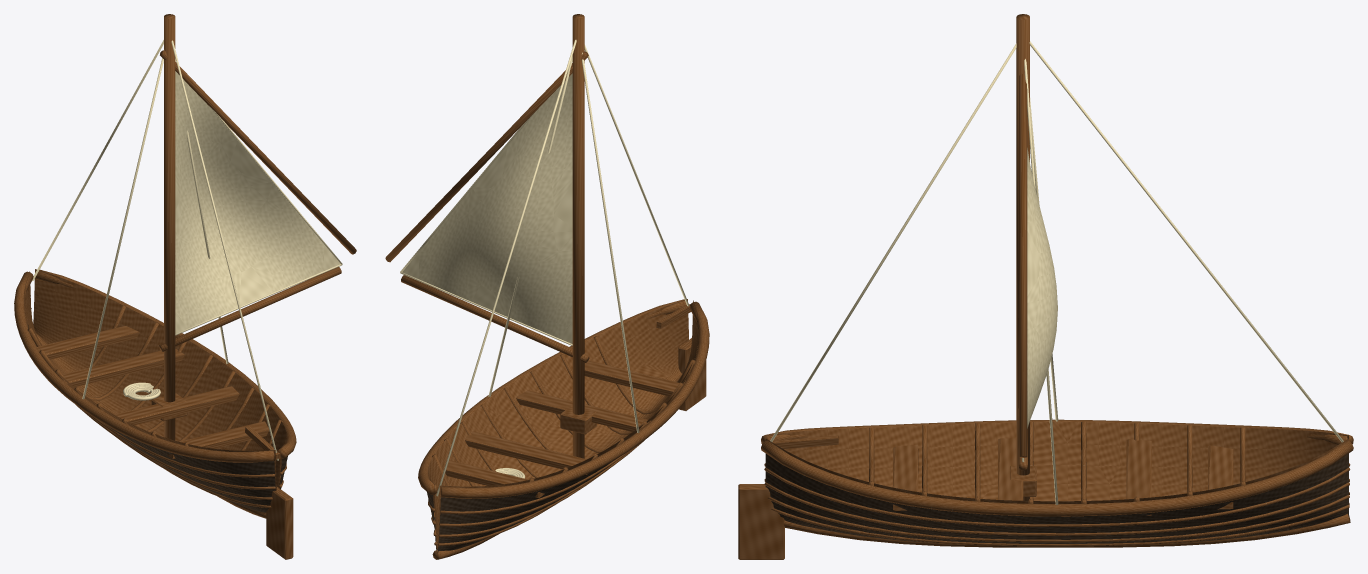
Rendered from fishing_sailboat.glb.
3 views of the same model, side by side, from view 1: azimuth 30°, elevation 25°; view 2: azimuth 150°, elevation 25°; view 3: azimuth 270°, elevation 25° (orthographic). The views are drawn at different scales.
Parts seen in each view (by area): view 1: fishing_sailboat_Hull.001, fishing_sailboat_Sail.001, fishing_sailboat_Joinery.001, fishing_sailboat_Detail.001; view 2: fishing_sailboat_Hull.001, fishing_sailboat_Sail.001, fishing_sailboat_Joinery.001, fishing_sailboat_Detail.001; view 3: fishing_sailboat_Hull.001, fishing_sailboat_Joinery.001, fishing_sailboat_Sail.001, fishing_sailboat_Detail.001.
Part boxes in pixels (left/top/right/bottom): fishing_sailboat_Hull.001: left=14, top=269, right=296, bottom=518; fishing_sailboat_Sail.001: left=175, top=71, right=340, bottom=333; fishing_sailboat_Joinery.001: left=27, top=14, right=356, bottom=559; fishing_sailboat_Detail.001: left=32, top=40, right=342, bottom=460; fishing_sailboat_Hull.001: left=418, top=299, right=709, bottom=559; fishing_sailboat_Sail.001: left=402, top=73, right=572, bottom=343; fishing_sailboat_Joinery.001: left=385, top=14, right=706, bottom=498; fishing_sailboat_Detail.001: left=400, top=39, right=689, bottom=496; fishing_sailboat_Hull.001: left=761, top=419, right=1353, bottom=547; fishing_sailboat_Joinery.001: left=738, top=14, right=1245, bottom=559; fishing_sailboat_Sail.001: left=1027, top=148, right=1057, bottom=428; fishing_sailboat_Detail.001: left=770, top=41, right=1343, bottom=504.
Size of the model in its own units: 3.72 by 6.14 by 6.33.
1 material, 1 textured.
